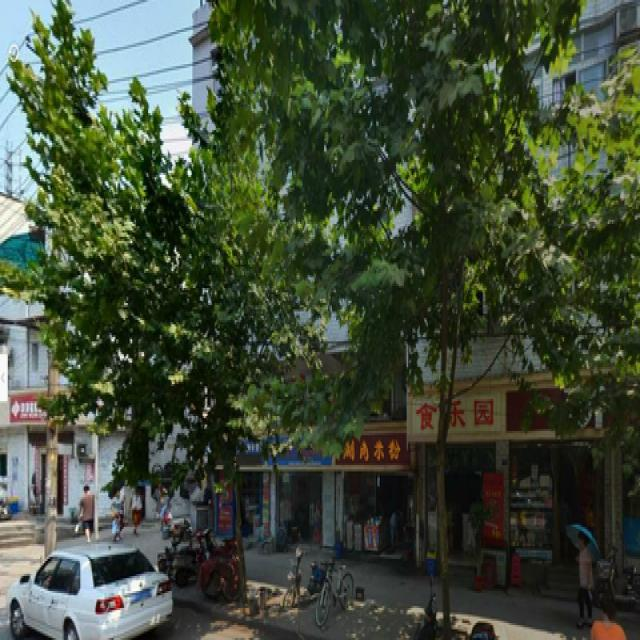meta: (297, 13, 512, 610), (87, 136, 270, 600)
